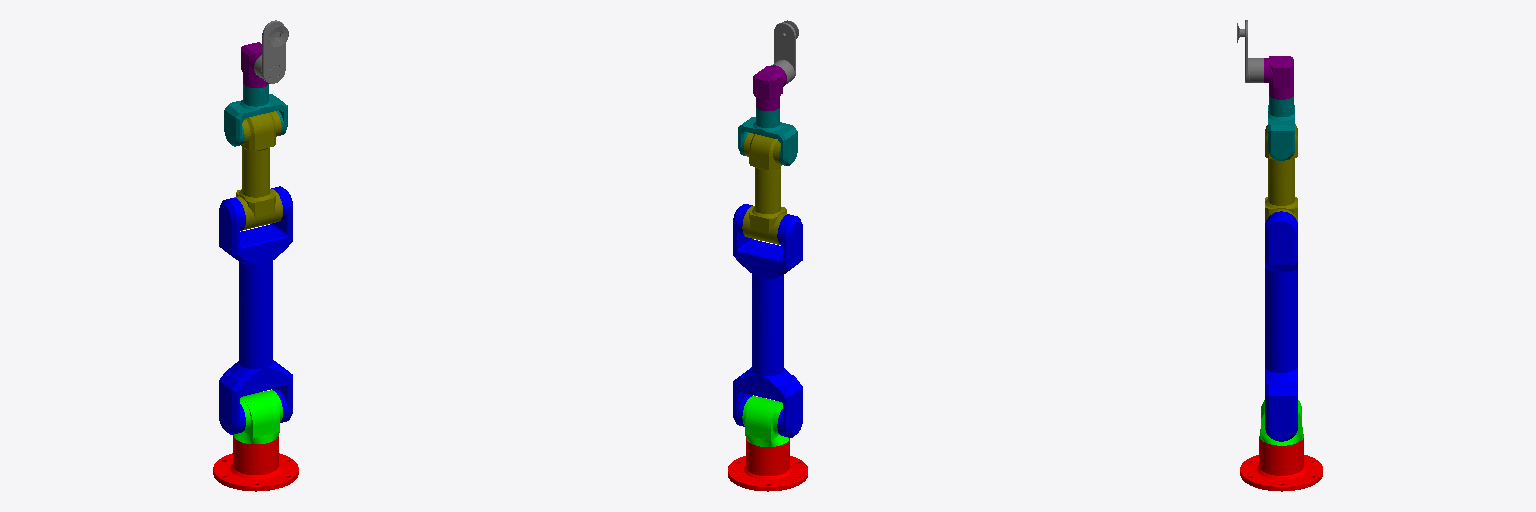
The robot description file, URDF, robot "knickarm_6dof":
<?xml version="1.0" encoding="utf-8"?>
<!-- Fixed for ROS2 compatibility (per Vorlesung 1_Modelling):
     - World-Frame mit Z-up Korrektur (CAD: +Y up -> World: +Z up)
     - Robot name: knickarm_6dof
     - joint_2 bis joint_5: fixed -> revolute (Exporter-Fehler korrigiert)
     - Alle Axis-Nullvektoren -> "0 0 1" (DH-Konvention)
     - Joint Limits, Effort, Velocity befüllt
     - Dynamics (damping/friction) ergänzt
     - joint_tcp: Nullvektor-Axis entfernt
     - Material names befüllt
     - HINWEIS: 6 bewegliche Joints (joint_1 bis joint_6) -> echter 6DOF Knickarm!
-->
<robot name="knickarm_6dof">

  <!-- World Frame mit Z-up Korrektur für SolidWorks-Export -->
  <link name="world" />
  <joint name="world_to_base" type="fixed">
    <parent link="world" />
    <child link="base_link" />
    <origin xyz="0 0 0" rpy="0 0 0" />
  </joint>

  <link name="base_link">
    <inertial>
      <origin xyz="0.0 0.058842 0.0" rpy="0 0 0" />
      <mass value="10.856" />
      <inertia
        ixx="0.056123"  ixy="0.0"  ixz="0.0"
        iyy="0.064497"  iyz="0.0"
        izz="0.056123" />
    </inertial>
    <visual>
      <origin xyz="0 0 0" rpy="0 0 0" />
      <geometry>
        <mesh filename="package://robot_arm_6dof_assembly/meshes/base_link.STL" />
      </geometry>
      <material name="red">
        <color rgba="1 0 0 1" />
      </material>
    </visual>
    <collision>
      <origin xyz="0 0 0" rpy="0 0 0" />
      <geometry>
        <mesh filename="package://robot_arm_6dof_assembly/meshes/base_link.STL" />
      </geometry>
    </collision>
  </link>

  <link name="link_1">
    <inertial>
      <origin xyz="0.0 0.070484 0.0" rpy="0 0 0" />
      <mass value="7.3362" />
      <inertia
        ixx="0.023594"  ixy="0.0"  ixz="0.0"
        iyy="0.022891"  iyz="0.0"
        izz="0.022929" />
    </inertial>
    <visual>
      <origin xyz="0 0 0" rpy="0 0 0" />
      <geometry>
        <mesh filename="package://robot_arm_6dof_assembly/meshes/link_1.STL" />
      </geometry>
      <material name="green">
        <color rgba="0 1 0 1" />
      </material>
    </visual>
    <collision>
      <origin xyz="0 0 0" rpy="0 0 0" />
      <geometry>
        <mesh filename="package://robot_arm_6dof_assembly/meshes/link_1.STL" />
      </geometry>
    </collision>
  </link>

  <!-- Joint 1: Basis-Drehung -->
  <joint name="joint_1" type="revolute">
    <origin xyz="0 0 0.15" rpy="1.5708 0 1.5708" />
    <parent link="base_link" />
    <child link="link_1" />
    <axis xyz="0 1 0" />
    <limit lower="-3.1416" upper="3.1416" effort="300.0" velocity="1.571" />
    <dynamics damping="2.0" friction="1.0" />
  </joint>

  <link name="link_2">
    <inertial>
      <origin xyz="0.0 0.0 0.39" rpy="0 0 0" />
      <mass value="12.577" />
      <inertia
        ixx="1.0467"  ixy="0.0"  ixz="0.0"
        iyy="0.9886"  iyz="0.0"
        izz="0.094901" />
    </inertial>
    <visual>
      <origin xyz="0 0 0" rpy="0 0 0" />
      <geometry>
        <mesh filename="package://robot_arm_6dof_assembly/meshes/link_2.STL" />
      </geometry>
      <material name="blue">
        <color rgba="0 0 1 1" />
      </material>
    </visual>
    <collision>
      <origin xyz="0 0 0" rpy="0 0 0" />
      <geometry>
        <mesh filename="package://robot_arm_6dof_assembly/meshes/link_2.STL" />
      </geometry>
    </collision>
  </link>

  <!-- Joint 2: Schulter (war fixed im Export!) -->
  <joint name="joint_2" type="revolute">
    <origin xyz="0 0.09 0" rpy="1.5708 0 3.1416" />
    <parent link="link_1" />
    <child link="link_2" />
    <axis xyz="0 1 0" />
    <limit lower="-3.1416" upper="3.1416" effort="300.0" velocity="1.571" />
    <dynamics damping="2.0" friction="1.0" />
  </joint>

  <link name="link_3">
    <inertial>
      <origin xyz="-0.15486 0.0 0.0" rpy="0 0 0" />
      <mass value="5.0111" />
      <inertia
        ixx="0.017184"  ixy="0.0"  ixz="0.0"
        iyy="0.10451"   iyz="0.0"
        izz="0.10804" />
    </inertial>
    <visual>
      <origin xyz="0 0 0" rpy="0 0 0" />
      <geometry>
        <mesh filename="package://robot_arm_6dof_assembly/meshes/link_3.STL" />
      </geometry>
      <material name="olive">
        <color rgba="0.5 0.5 0 1" />
      </material>
    </visual>
    <collision>
      <origin xyz="0 0 0" rpy="0 0 0" />
      <geometry>
        <mesh filename="package://robot_arm_6dof_assembly/meshes/link_3.STL" />
      </geometry>
    </collision>
  </link>

  <!-- Joint 3: Ellbogen (war fixed im Export!) -->
  <joint name="joint_3" type="revolute">
    <origin xyz="0 0 0.78" rpy="0 1.5708 0" />
    <parent link="link_2" />
    <child link="link_3" />
    <axis xyz="0 1 0" />
    <limit lower="-3.1416" upper="3.1416" effort="150.0" velocity="1.571" />
    <dynamics damping="1.0" friction="0.5" />
  </joint>

  <link name="link_4">
    <inertial>
      <origin xyz="-0.062648 0.0 0.0" rpy="0 0 0" />
      <mass value="2.8147" />
      <inertia
        ixx="0.016383"  ixy="0.0"  ixz="0.0"
        iyy="0.010718"  iyz="0.0"
        izz="0.022619" />
    </inertial>
    <visual>
      <origin xyz="0 0 0" rpy="0 0 0" />
      <geometry>
        <mesh filename="package://robot_arm_6dof_assembly/meshes/link_4.STL" />
      </geometry>
      <material name="teal">
        <color rgba="0 0.5 0.5 1" />
      </material>
    </visual>
    <collision>
      <origin xyz="0 0 0" rpy="0 0 0" />
      <geometry>
        <mesh filename="package://robot_arm_6dof_assembly/meshes/link_4.STL" />
      </geometry>
    </collision>
  </link>

  <!-- Joint 4: Wrist 1 (war fixed im Export!) -->
  <joint name="joint_4" type="revolute">
    <origin xyz="-0.32 0 0" rpy="0 0 0" />
    <parent link="link_3" />
    <child link="link_4" />
    <axis xyz="0 1 0" />
    <limit lower="-3.1416" upper="3.1416" effort="50.0" velocity="3.142" />
    <dynamics damping="0.5" friction="0.2" />
  </joint>

  <link name="link_5">
    <inertial>
      <origin xyz="0.0 0.073741 -0.0073233" rpy="0 0 0" />
      <mass value="2.305" />
      <inertia
        ixx="0.0061277"  ixy="0.0"  ixz="0.0"
        iyy="0.003854"   iyz="0.00038988"
        izz="0.0054633" />
    </inertial>
    <visual>
      <origin xyz="0 0 0" rpy="0 0 0" />
      <geometry>
        <mesh filename="package://robot_arm_6dof_assembly/meshes/link_5.STL" />
      </geometry>
      <material name="purple">
        <color rgba="0.5 0 0.5 1" />
      </material>
    </visual>
    <collision>
      <origin xyz="0 0 0" rpy="0 0 0" />
      <geometry>
        <mesh filename="package://robot_arm_6dof_assembly/meshes/link_5.STL" />
      </geometry>
    </collision>
  </link>

  <!-- Joint 5: Wrist 2 (war fixed im Export!) -->
  <joint name="joint_5" type="revolute">
    <origin xyz="-0.17 0 0" rpy="3.1416 0 -1.5708" />
    <parent link="link_4" />
    <child link="link_5" />
    <axis xyz="0 1 0" />
    <limit lower="-3.1416" upper="3.1416" effort="30.0" velocity="3.142" />
    <dynamics damping="0.3" friction="0.1" />
  </joint>

  <link name="tool">
    <inertial>
      <origin xyz="0.0 -0.0089196 -0.031888" rpy="0 0 0" />
      <mass value="1.5393" />
      <inertia
        ixx="0.003164"   ixy="0.0"  ixz="0.0"
        iyy="0.0037725"  iyz="2.9223E-05"
        izz="0.0010376" />
    </inertial>
    <visual>
      <origin xyz="0 0 0" rpy="0 0 0" />
      <geometry>
        <mesh filename="package://robot_arm_6dof_assembly/meshes/tool.STL" />
      </geometry>
      <material name="grey">
        <color rgba="0.5 0.5 0.5 1" />
      </material>
    </visual>
    <collision>
      <origin xyz="0 0 0" rpy="0 0 0" />
      <geometry>
        <mesh filename="package://robot_arm_6dof_assembly/meshes/tool.STL" />
      </geometry>
    </collision>
  </link>

  <!-- Joint 6: Tool-Rotation (war fixed im Export!) -->
  <joint name="joint_6" type="revolute">
    <origin xyz="0 0.095 -0.115" rpy="-1.5708 0 3.1416" />
    <parent link="link_5" />
    <child link="tool" />
    <axis xyz="0 1 0" />
    <limit lower="-3.1416" upper="3.1416" effort="20.0" velocity="3.142" />
    <dynamics damping="0.2" friction="0.05" />
  </joint>

</robot>

--- What the picture shows (computed from the rendered views, not written in the file) ---
Views: 3 orthographic renders of the robot side by side, from view 1: azimuth 30°, elevation 25°; view 2: azimuth 150°, elevation 25°; view 3: azimuth 270°, elevation 25°.
Model knickarm_6dof with 8 links and 7 joints (6 revolute, 1 fixed), rooted at world, posed all joints at 0.
Visible links, largest first — view 1: link_2, link_3, base_link, link_4, link_1, tool, link_5; view 2: link_2, link_3, base_link, link_1, link_4, link_5, tool; view 3: link_2, base_link, link_3, link_4, link_5, tool, link_1.
Link boxes in pixels (<box>): link_2: <box>219,186,292,434</box>; link_3: <box>234,111,282,230</box>; base_link: <box>213,436,298,491</box>; link_4: <box>224,84,287,146</box>; link_1: <box>233,390,282,443</box>; tool: <box>254,20,288,83</box>; link_5: <box>241,42,268,87</box>; link_2: <box>733,204,802,437</box>; link_3: <box>742,133,786,244</box>; base_link: <box>728,438,807,491</box>; link_1: <box>742,396,788,446</box>; link_4: <box>738,108,797,165</box>; link_5: <box>753,65,786,110</box>; tool: <box>771,20,798,83</box>; link_2: <box>1265,211,1297,441</box>; base_link: <box>1240,437,1322,491</box>; link_3: <box>1265,124,1297,222</box>; link_4: <box>1268,96,1294,160</box>; link_5: <box>1264,56,1293,99</box>; tool: <box>1237,20,1263,82</box>; link_1: <box>1259,400,1303,445</box>.
Size in the robot's own frame: 0.3 by 0.3117 by 1.8 metres.
7 mesh visuals loaded from 7 distinct referenced files (7 binary STL).
